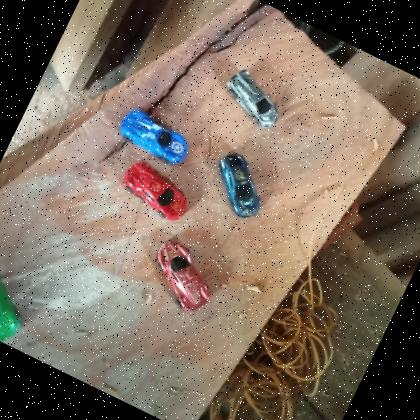Car: (139, 234, 226, 318), (200, 146, 278, 224), (113, 156, 199, 226), (111, 103, 196, 171), (214, 62, 292, 134)
